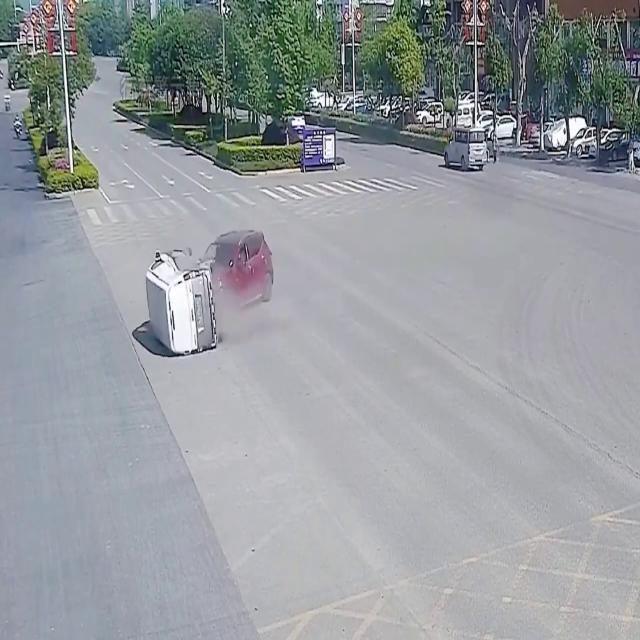multiple_accident: (151, 211, 316, 383)
